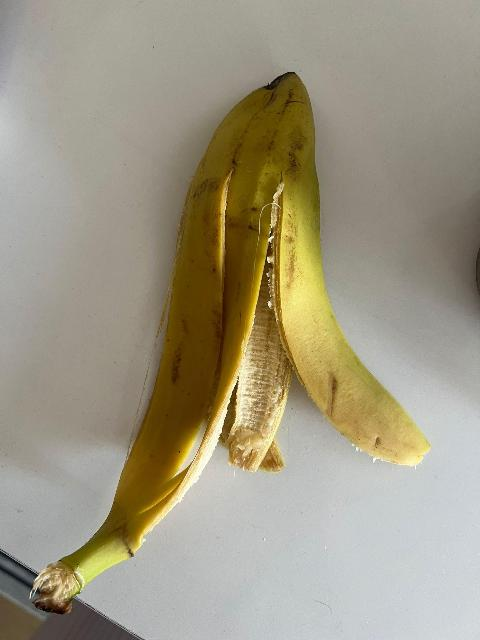Organik: (0, 64, 439, 617)
